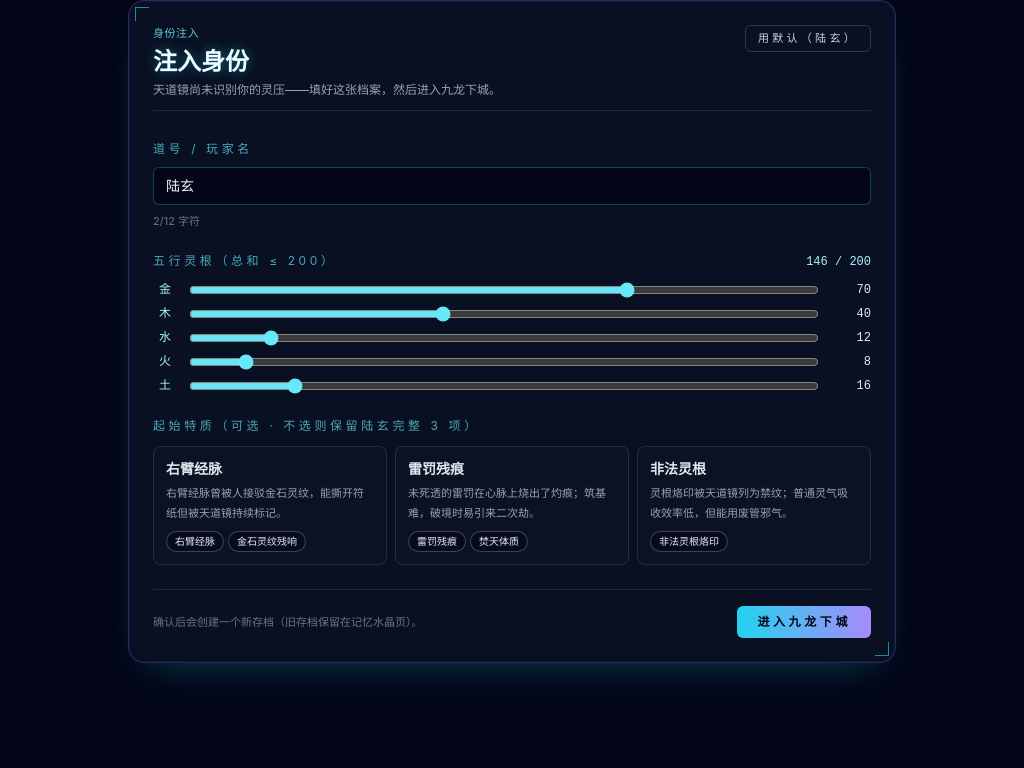
Test case: CharacterCreatorPage › disables submit when name is empty
Clear the field at [512, 186], box [153, 166, 871, 204]
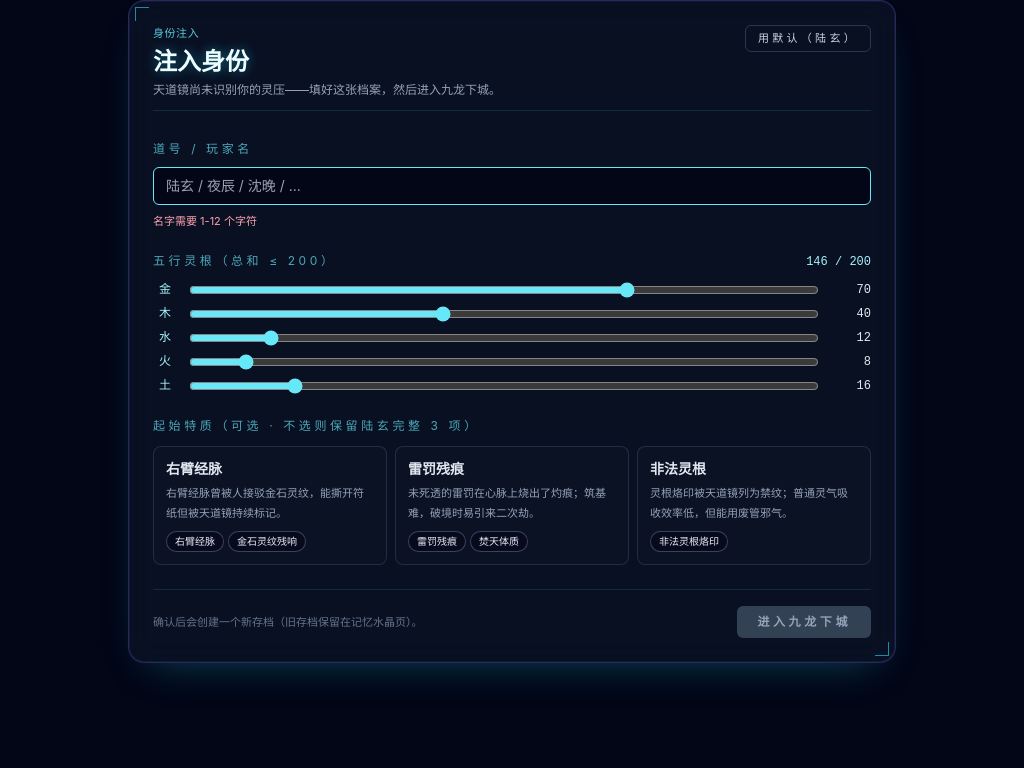
Expected: the button "进入九龙下城" is disabled, [737, 606, 871, 638]
Expected: the text "名字需要 1-12 个字符" is shown, [153, 214, 257, 228]
